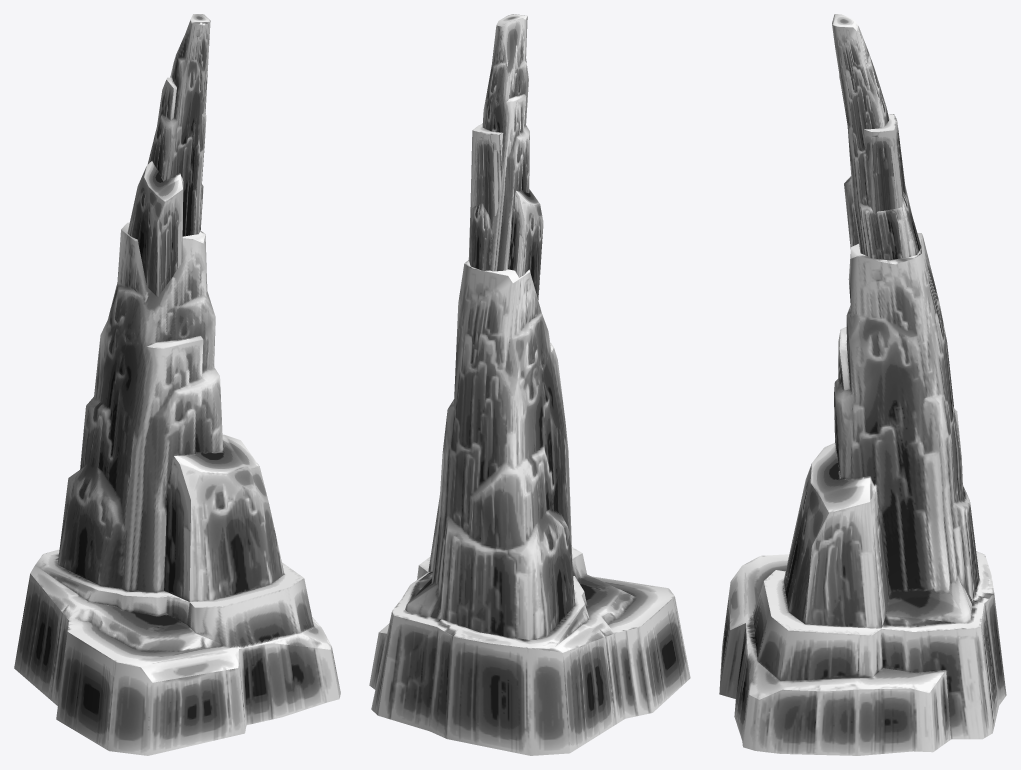
The model's file is Crystal_03.FBX.
The picture shows the model from 3 angles, left to right: view 1: azimuth 30°, elevation 25°; view 2: azimuth 150°, elevation 25°; view 3: azimuth 270°, elevation 25°; orthographic projection. The views are drawn at different scales.
Visible parts, largest first — view 1: Crystal_03; view 2: Crystal_03; view 3: Crystal_03.
Boxes of the visible parts, x1,y1,x2,y2 form: Crystal_03: (14,14,340,755); Crystal_03: (369,14,690,755); Crystal_03: (719,14,1006,755).
Bounding box in the file's own units: 1.09 × 2.79 × 1.06.
